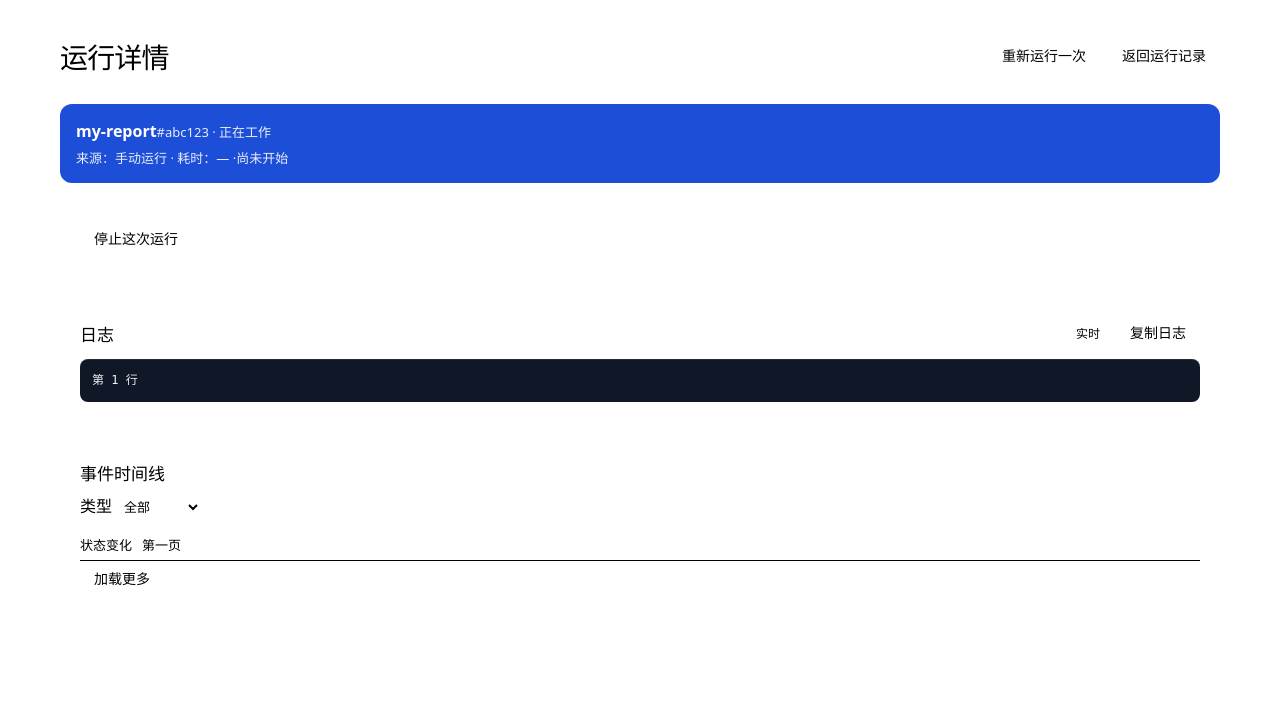
Test case: RunDetailScreen › 加载更多：total 大于已加载时点按钮追加分页
Click the button "加载更多": {"x": 122, "y": 579} [80,561,164,597]
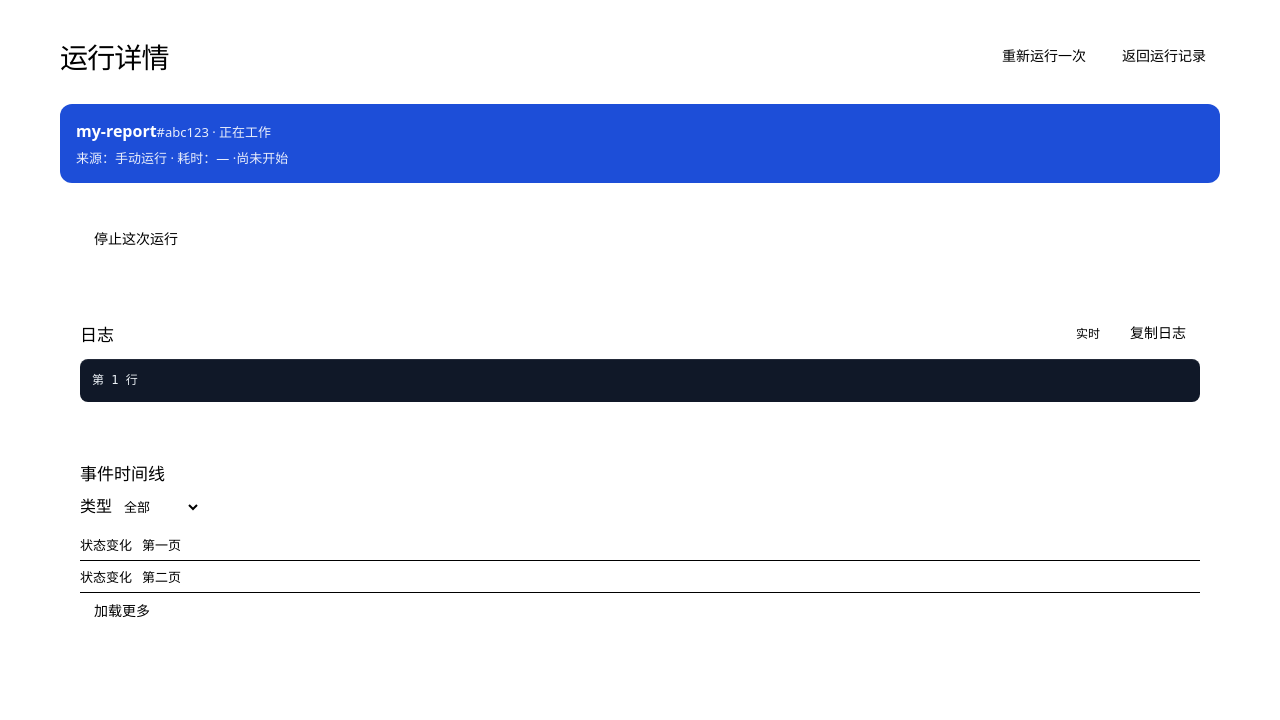
Result: the text "第二页" is shown at [142,568,181,586]
